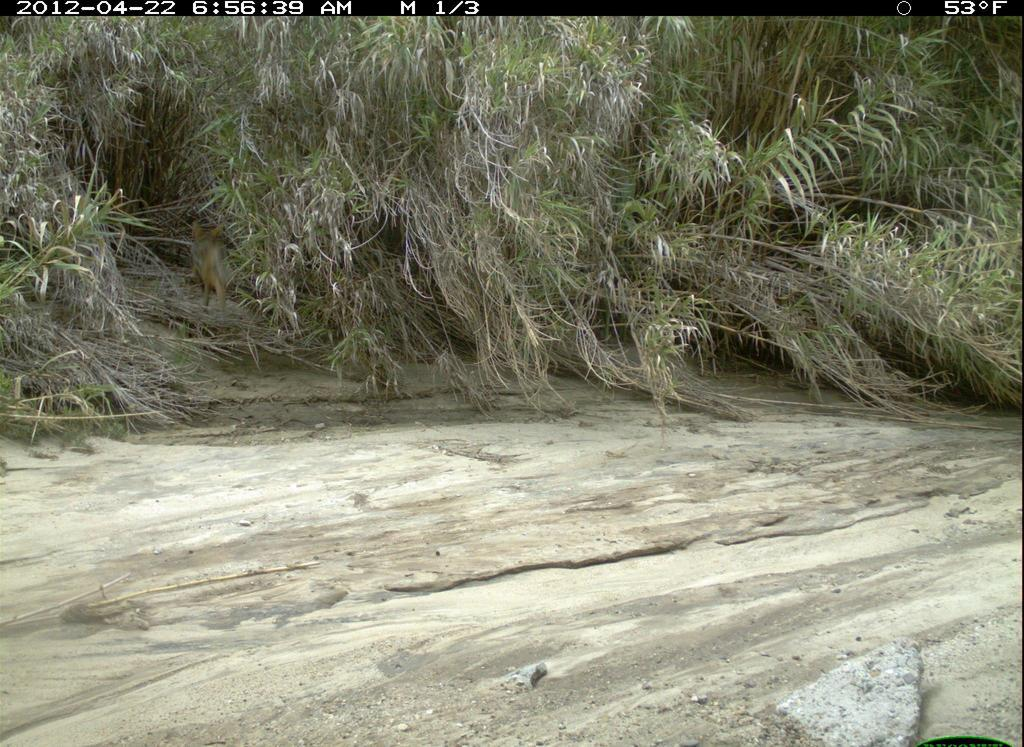coyote: (175, 212, 253, 317)
